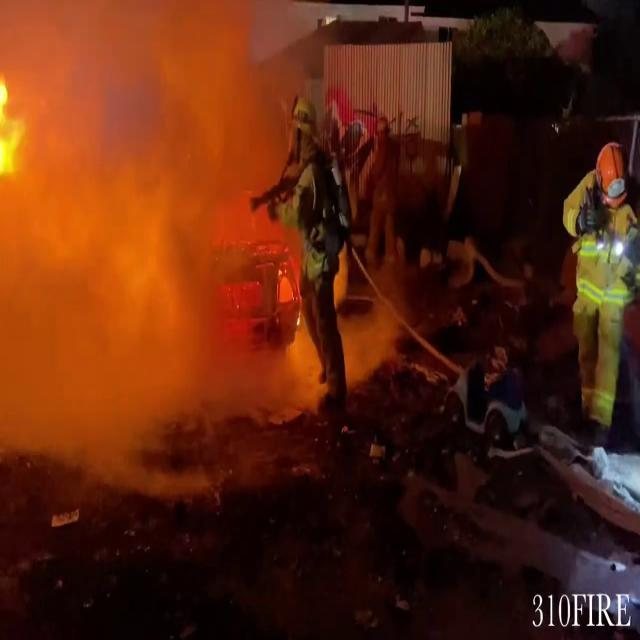Smoke: (0, 0, 310, 495)
